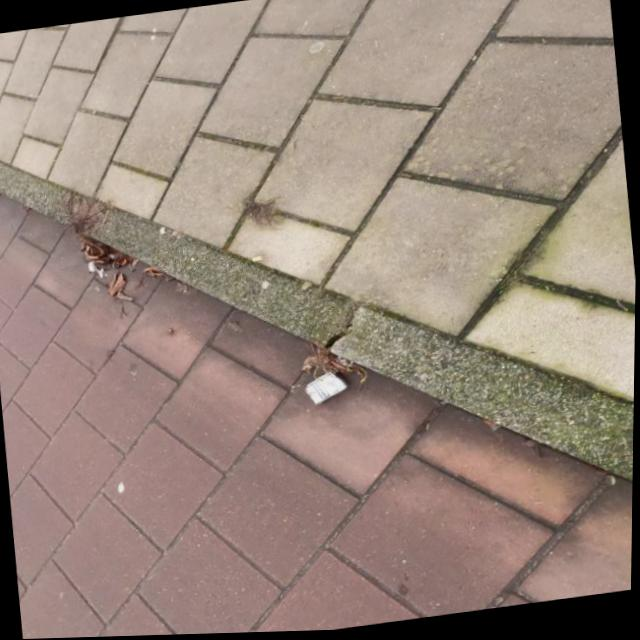Paper: (301, 369, 353, 407)
